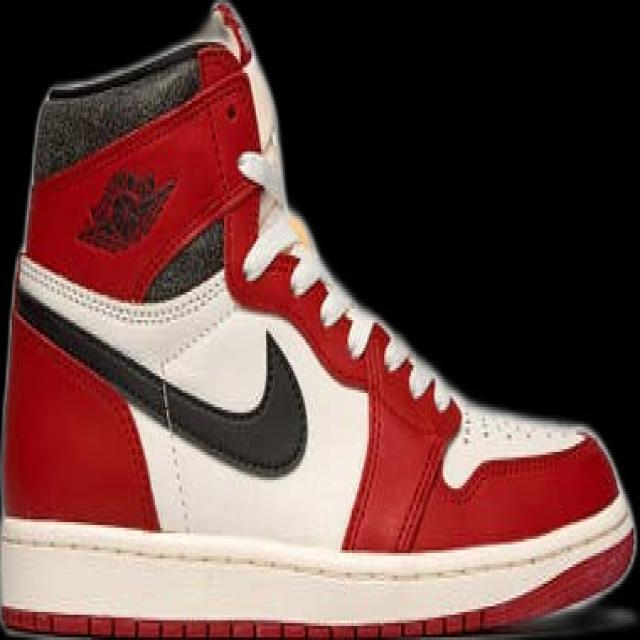J1_InsoleChar: (2, 2, 635, 636)
J1_ShoeLogo: (74, 166, 178, 253)
J1_StitchPattern: (241, 207, 588, 483), (13, 252, 309, 477), (2, 505, 635, 593), (241, 208, 455, 413), (31, 51, 204, 181), (14, 250, 230, 329), (151, 362, 197, 535), (455, 407, 586, 451)
